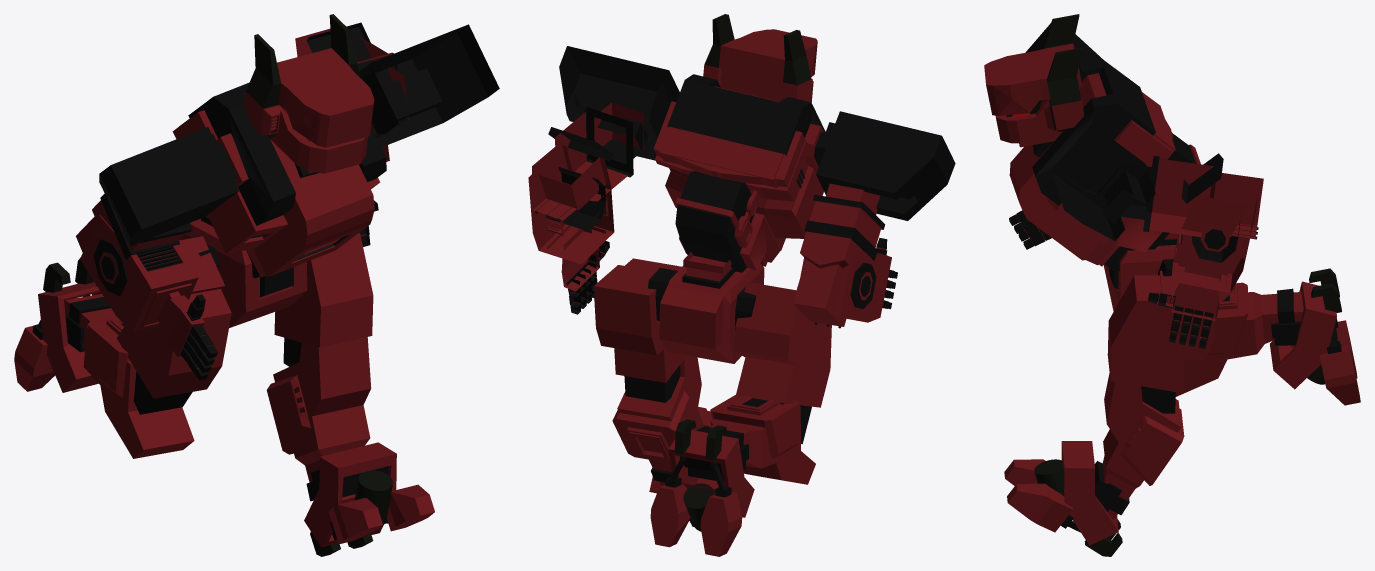
The model's file is walk1.obj.
3 renders of one model, left to right at view 1: azimuth 30°, elevation 25°; view 2: azimuth 150°, elevation 25°; view 3: azimuth 270°, elevation 25°, orthographic. The views are drawn at different scales.
Visible parts, largest first — view 1: R_UpperShoulder_Cube.030; view 2: R_UpperShoulder_Cube.030; view 3: R_UpperShoulder_Cube.030.
Part boxes in pixels (x1=…): R_UpperShoulder_Cube.030: x1=14, y1=14, x2=499, y2=556; R_UpperShoulder_Cube.030: x1=528, y1=14, x2=955, y2=556; R_UpperShoulder_Cube.030: x1=984, y1=14, x2=1360, y2=556.
Bounding box in the file's own units: 1.44 × 1.91 × 1.33.
